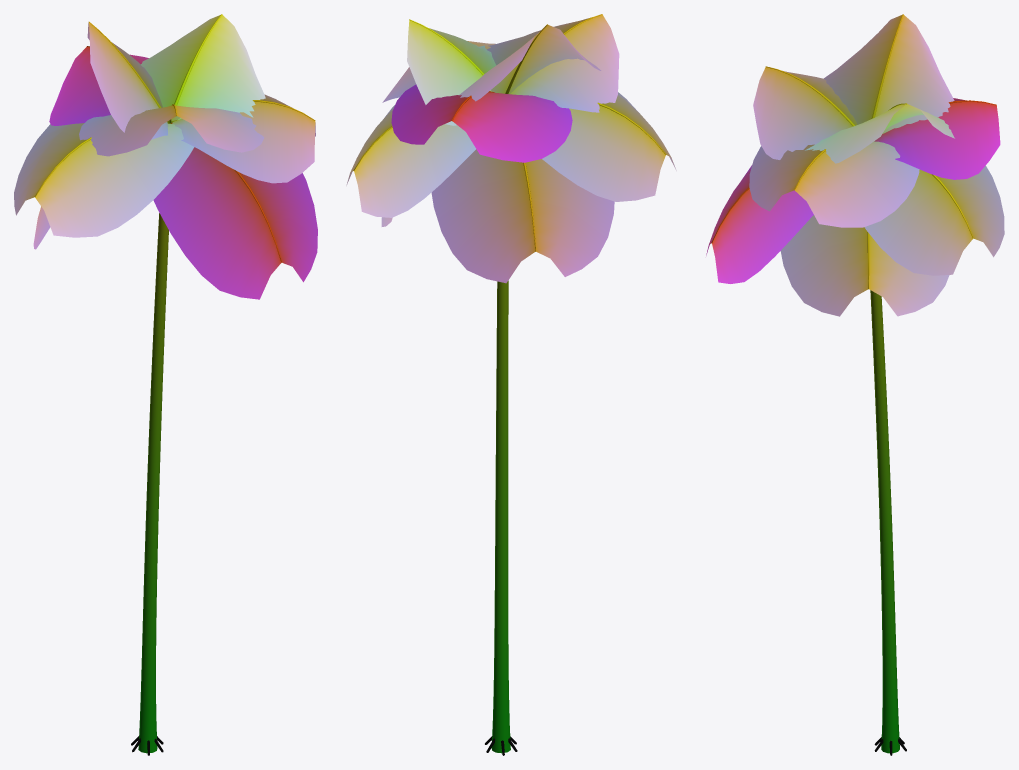
Rendered from areca_palm.glb.
3 views of the same model, side by side, from view 1: azimuth 30°, elevation 25°; view 2: azimuth 150°, elevation 25°; view 3: azimuth 270°, elevation 25° (orthographic). The views are drawn at different scales.
Visible parts, largest first — view 1: areca_palm_fronds, areca_palm_bark; view 2: areca_palm_fronds, areca_palm_bark; view 3: areca_palm_fronds, areca_palm_bark.
Part boxes in pixels (box(x1,y1,x2,y2)): areca_palm_fronds: box(14, 15, 317, 299); areca_palm_bark: box(34, 14, 315, 755); areca_palm_fronds: box(346, 14, 676, 283); areca_palm_bark: box(353, 14, 666, 755); areca_palm_fronds: box(706, 14, 1004, 316); areca_palm_bark: box(711, 14, 996, 755).
Size of what is drawn, in the model's own units: 3.71 by 9.54 by 3.64.
